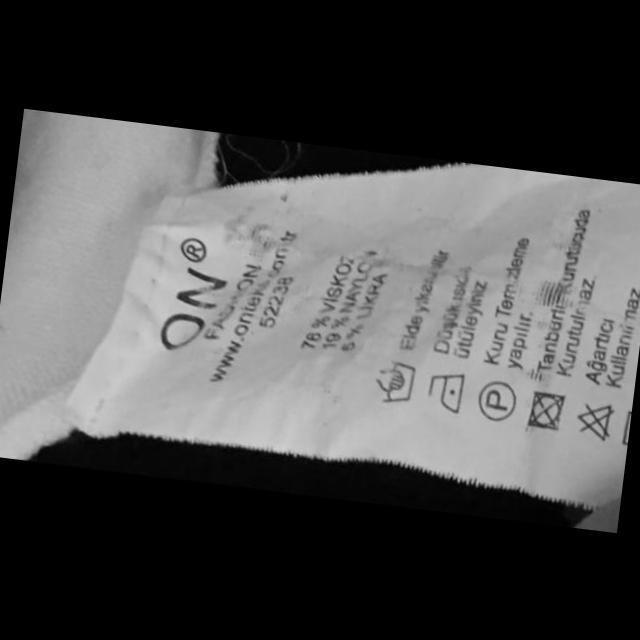DN_bleach: (573, 397, 617, 443)
DN_tumble_dry: (524, 388, 567, 432)
hand_wash: (371, 356, 417, 406)
iron_low: (424, 368, 466, 416)
normal_dry_clean_solvents: (474, 376, 519, 424)
